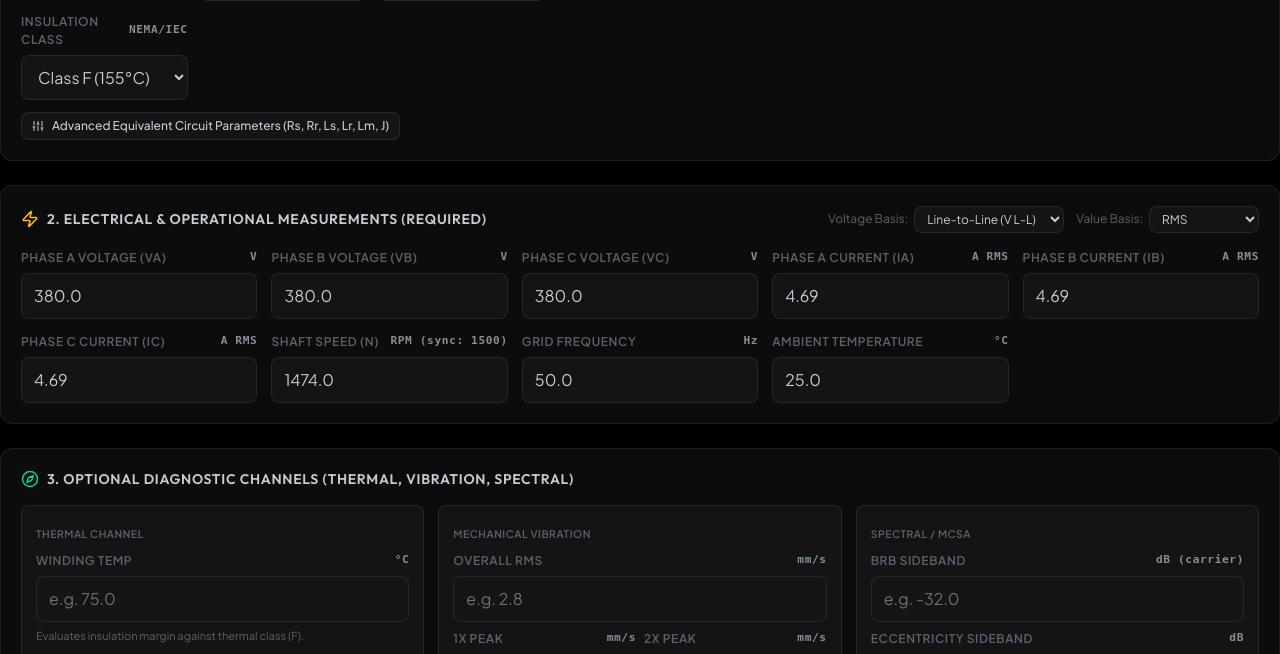
Scenario: StaticDiagnosisPanel › validates negative or invalid voltages
(page scrolled)
Replace the text in the number field named "Phase A Voltage" with "-10": (139, 296) [21, 273, 257, 319]
(page scrolled)
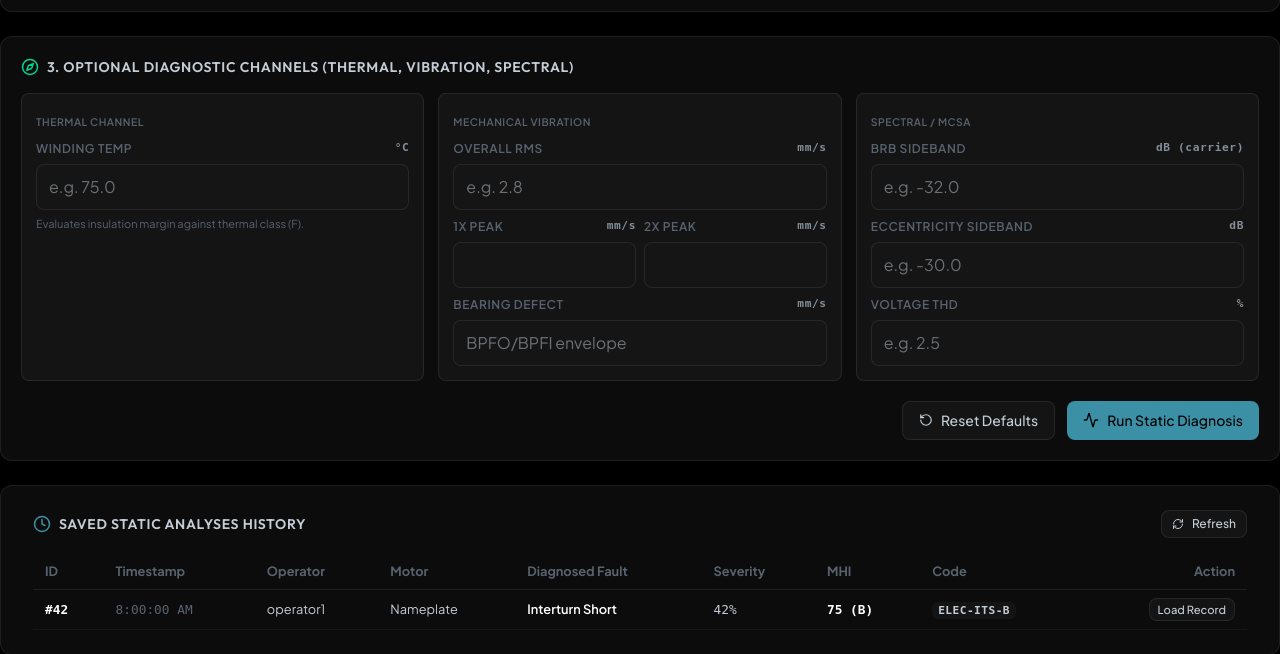
Click the button "Run Static Diagnosis": (1163, 420) [1067, 401, 1259, 440]
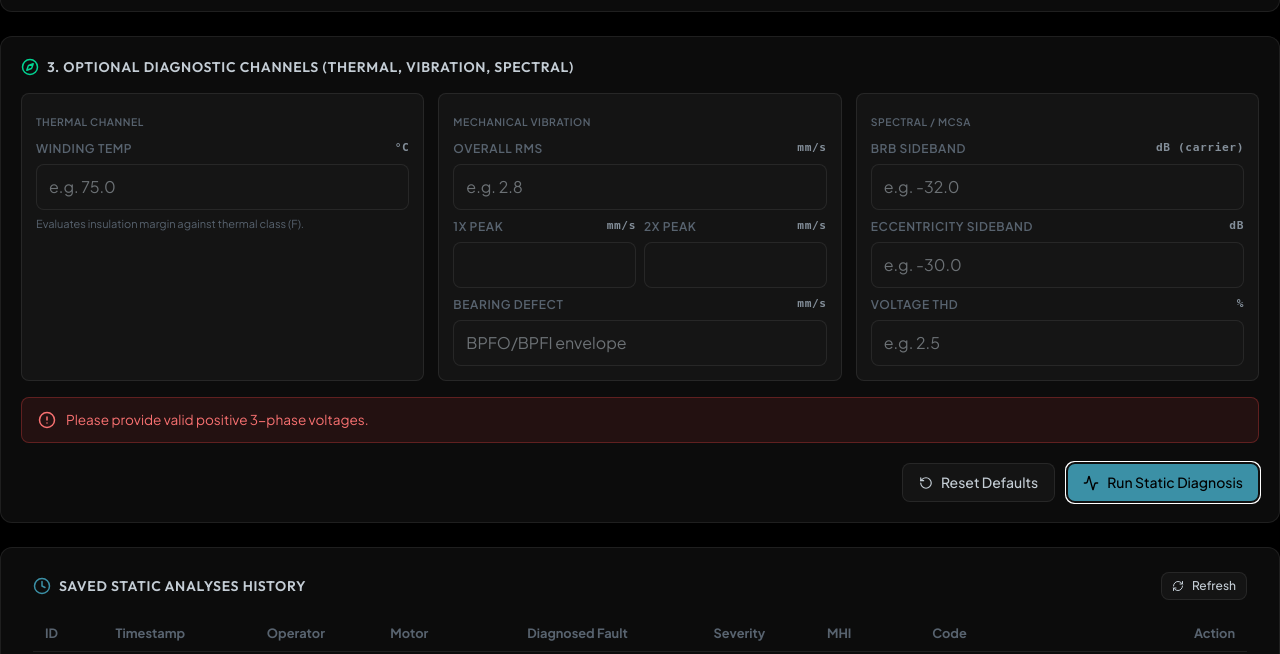
Expected: the text "Please provide valid positive 3-phase voltages." is shown, [66, 410, 369, 430]
